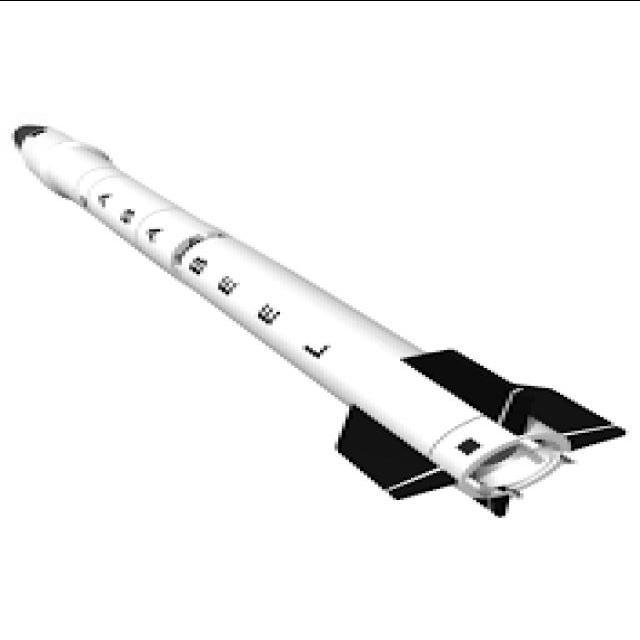missile: (9, 83, 591, 527)
